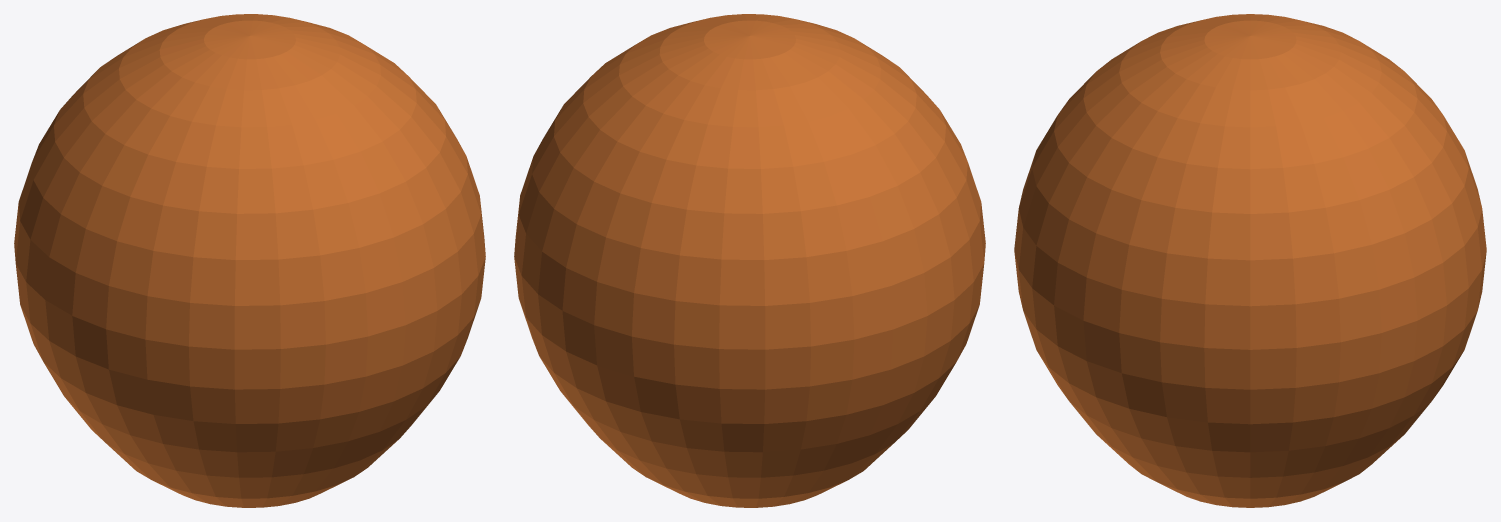
File: Mud Ball 3.fbx
3 views of the same model, side by side, from view 1: azimuth 30°, elevation 25°; view 2: azimuth 150°, elevation 25°; view 3: azimuth 270°, elevation 25° (orthographic).
Parts seen in each view (by area): view 1: Sphere; view 2: Sphere; view 3: Sphere.
Part boxes in pixels (x1,y1,x2,y2): Sphere: [14, 14, 485, 507]; Sphere: [514, 14, 985, 507]; Sphere: [1014, 14, 1486, 507].
Size of the model in its own units: 200 by 210 by 200.
